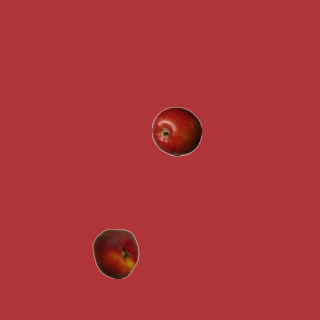Apple Braeburn: (151, 106, 201, 156)
Nectarine Flat: (90, 228, 140, 278)
